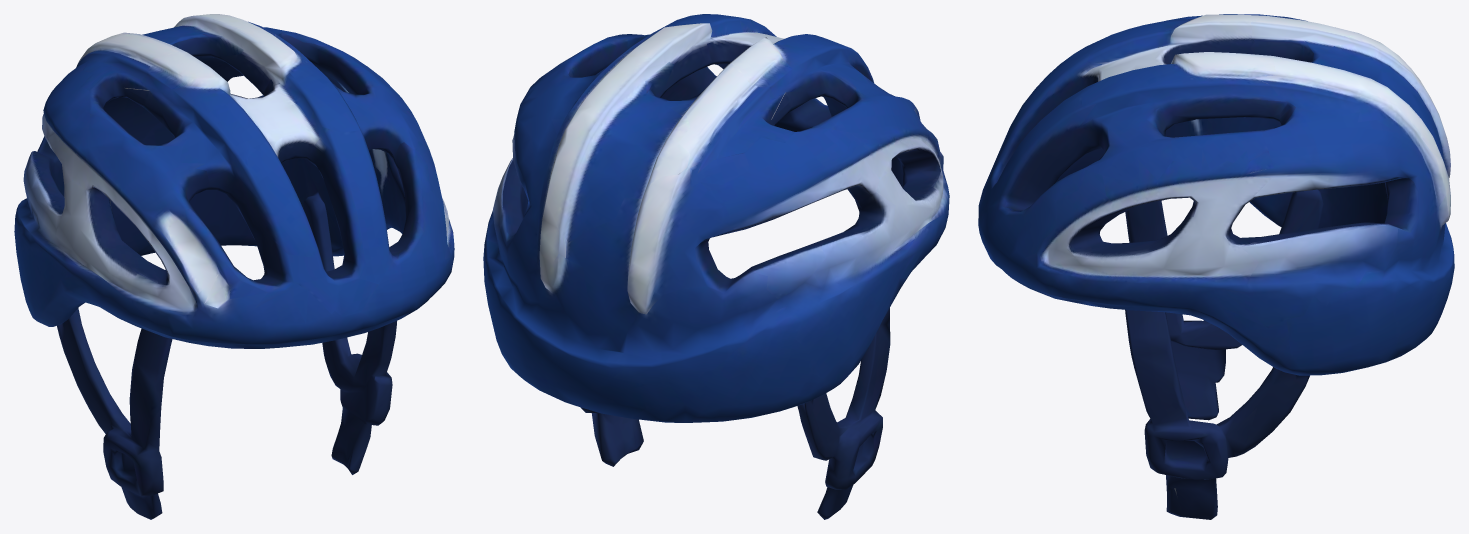
Rendered from helmet-blue.glb.
The picture shows the model from 3 angles, left to right: view 1: azimuth 30°, elevation 25°; view 2: azimuth 150°, elevation 25°; view 3: azimuth 270°, elevation 25°; orthographic projection. The views are drawn at different scales.
Parts seen in each view (by area): view 1: helmet-blue; view 2: helmet-blue; view 3: helmet-blue.
Part boxes in pixels (x1,y1,x2,y2): helmet-blue: [14, 14, 454, 519]; helmet-blue: [483, 14, 949, 519]; helmet-blue: [978, 14, 1454, 519].
Size of the model in its own units: 0.8544 by 1 by 0.9968.
Materials: 1 (1 with a texture image).
